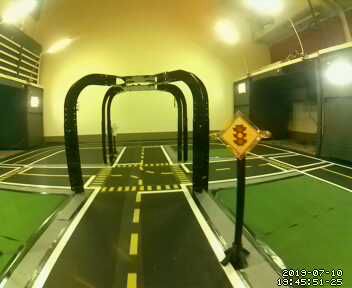Traffic light sign: (219, 114, 258, 157)
